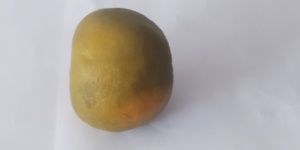BAD: (69, 7, 174, 132)
